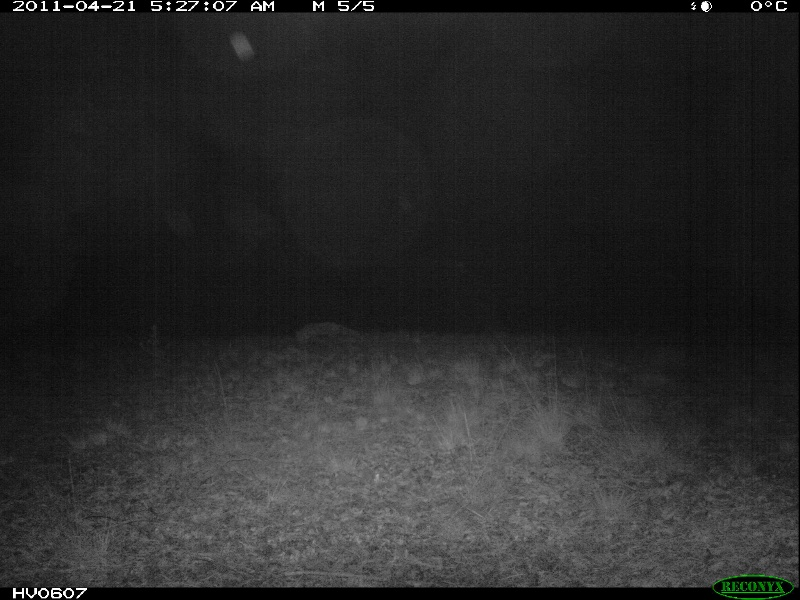fox: (291, 318, 357, 345)
